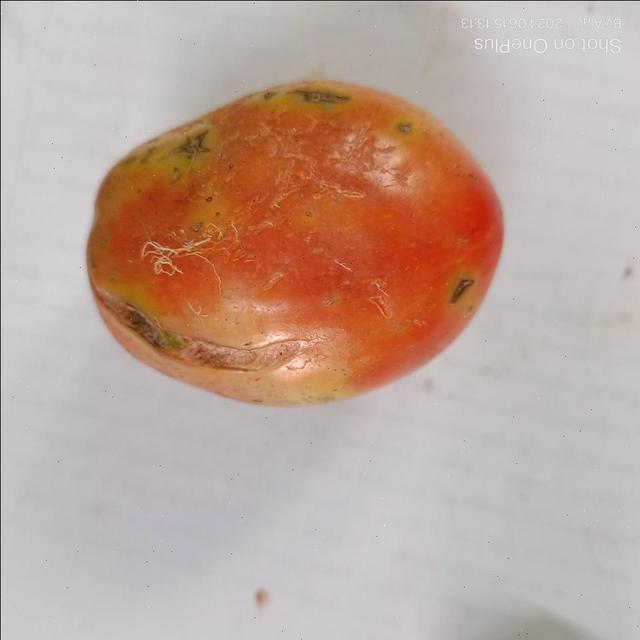Bacterial Spot Fruit: (23, 17, 309, 222)
